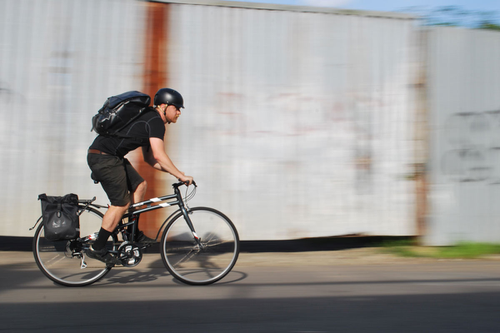bikerider: (28, 82, 248, 294)
